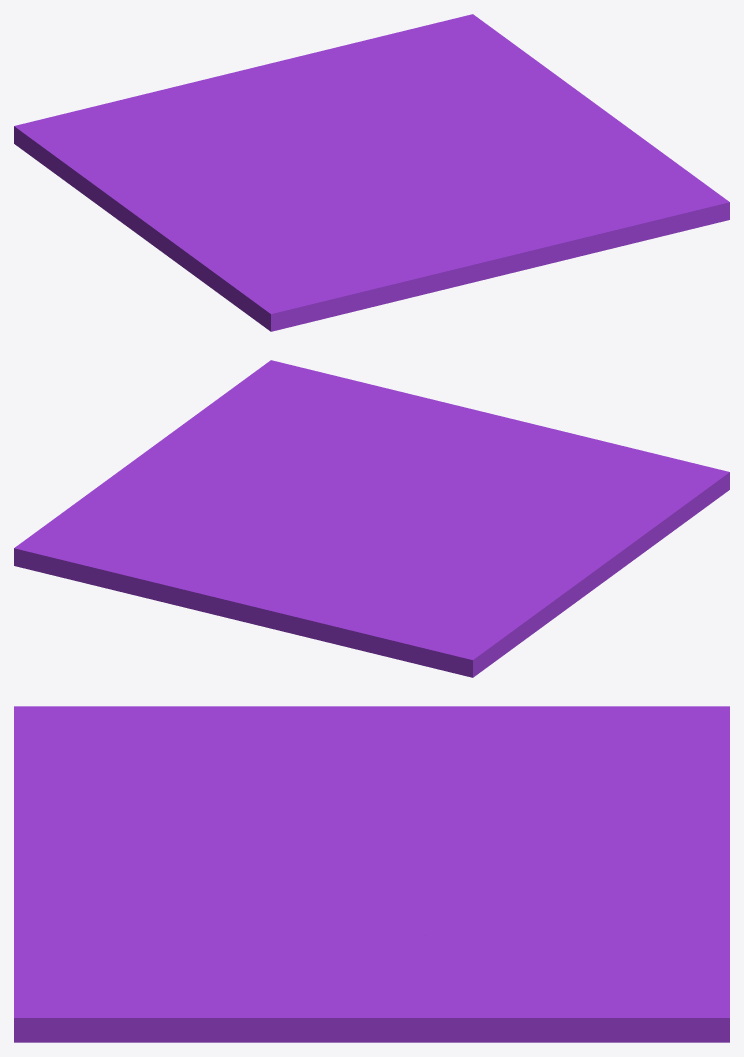
The model's file is Platform_53_chunks.fbx.
3 renders of one model, top to bottom at view 1: azimuth 30°, elevation 25°; view 2: azimuth 150°, elevation 25°; view 3: azimuth 270°, elevation 25°, orthographic. The views are drawn at different scales.
Visible parts, largest first — view 1: Platform_53_9, Platform_53_7, Platform_53_1, Platform_53_6, Platform_53_2, Platform_53_11, Platform_53_12, Platform_53_8, Platform_53_3, Platform_53_0, Platform_53_4; view 2: Platform_53_1, Platform_53_6, Platform_53_2, Platform_53_7, Platform_53_9, Platform_53_12, Platform_53_11, Platform_53_8, Platform_53_3, Platform_53_0, Platform_53_4; view 3: Platform_53_6, Platform_53_7, Platform_53_1, Platform_53_2, Platform_53_9, Platform_53_12, Platform_53_11, Platform_53_8, Platform_53_3, Platform_53_0, Platform_53_4.
Part boxes in pixels (left/top/right/bottom): Platform_53_9: left=214, top=223, right=551, bottom=331; Platform_53_7: left=473, top=115, right=729, bottom=243; Platform_53_1: left=14, top=91, right=242, bottom=242; Platform_53_6: left=361, top=14, right=611, bottom=135; Platform_53_2: left=157, top=41, right=370, bottom=142; Platform_53_11: left=332, top=180, right=629, bottom=263; Platform_53_12: left=150, top=180, right=366, bottom=284; Platform_53_8: left=366, top=95, right=499, bottom=190; Platform_53_3: left=169, top=142, right=371, bottom=222; Platform_53_0: left=323, top=159, right=452, bottom=185; Platform_53_4: left=239, top=141, right=356, bottom=156; Platform_53_1: left=330, top=555, right=611, bottom=677; Platform_53_6: left=14, top=447, right=249, bottom=592; Platform_53_2: left=125, top=521, right=388, bottom=643; Platform_53_7: left=153, top=360, right=376, bottom=477; Platform_53_9: left=449, top=403, right=729, bottom=529; Platform_53_12: left=425, top=482, right=676, bottom=573; Platform_53_11: left=375, top=386, right=495, bottom=516; Platform_53_8: left=233, top=460, right=375, bottom=546; Platform_53_3: left=329, top=512, right=594, bottom=561; Platform_53_0: left=362, top=469, right=428, bottom=520; Platform_53_4: left=336, top=526, right=423, bottom=568; Platform_53_6: left=341, top=907, right=729, bottom=1042; Platform_53_7: left=14, top=895, right=363, bottom=1042; Platform_53_1: left=344, top=706, right=729, bottom=812; Platform_53_2: left=435, top=803, right=729, bottom=941; Platform_53_9: left=14, top=706, right=205, bottom=896; Platform_53_12: left=161, top=706, right=361, bottom=830; Platform_53_11: left=14, top=818, right=353, bottom=945; Platform_53_8: left=226, top=865, right=572, bottom=946; Platform_53_3: left=345, top=718, right=483, bottom=876; Platform_53_0: left=253, top=826, right=384, bottom=888; Platform_53_4: left=442, top=799, right=527, bottom=869.
Bounding box in the file's own units: 810 × 29.87 × 786.
